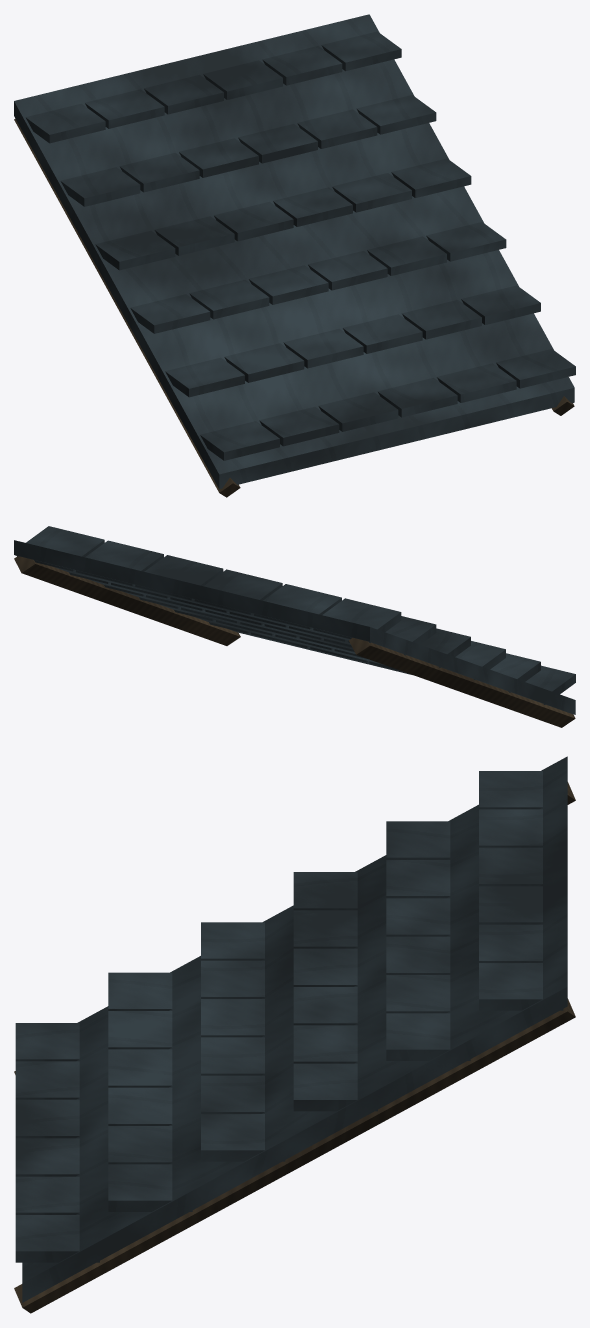
The model's file is Roof_Slate_2m.glb.
3 renders of one model, top to bottom at view 1: azimuth 30°, elevation 25°; view 2: azimuth 150°, elevation 25°; view 3: azimuth 270°, elevation 25°, orthographic. The views are drawn at different scales.
Parts seen in each view (by area): view 1: Roof_Slate_2m; view 2: Roof_Slate_2m; view 3: Roof_Slate_2m.
Boxes of the visible parts, x1=… form: Roof_Slate_2m: x1=14, y1=14, x2=575, y2=497; Roof_Slate_2m: x1=14, y1=526, x2=575, y2=727; Roof_Slate_2m: x1=14, y1=756, x2=575, y2=1313.
Bounding box in the file's own units: 2 × 1.35 × 2.06.
2 materials, 2 textured.
